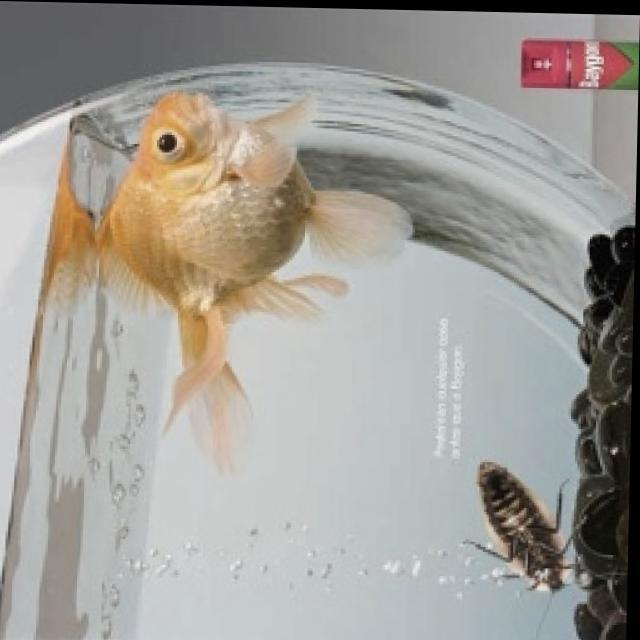cockroach: (461, 442, 596, 596)
